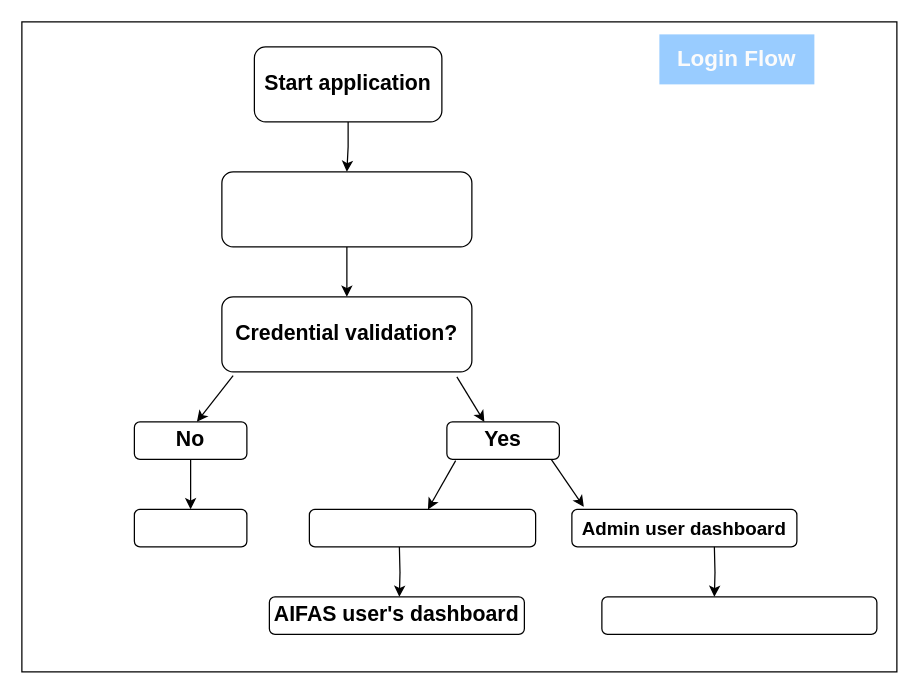
Image size: 919x694. Some labels were removed from this diagram. Here are the shapes that lost their labels. From the top down, the centre of each, then its label:
(346,209): Login screen
(190,527): Error
(422,527): Regular user dashboard
(739,615): AIFAS admin's dashboard
